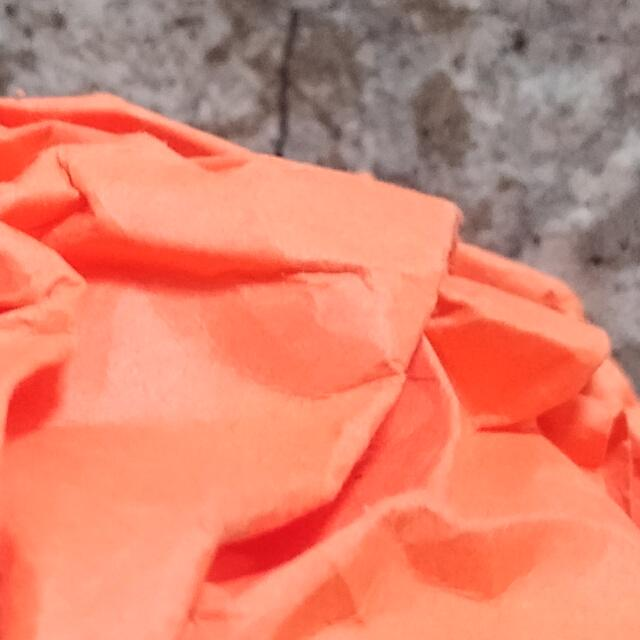paper: (0, 99, 640, 640)
